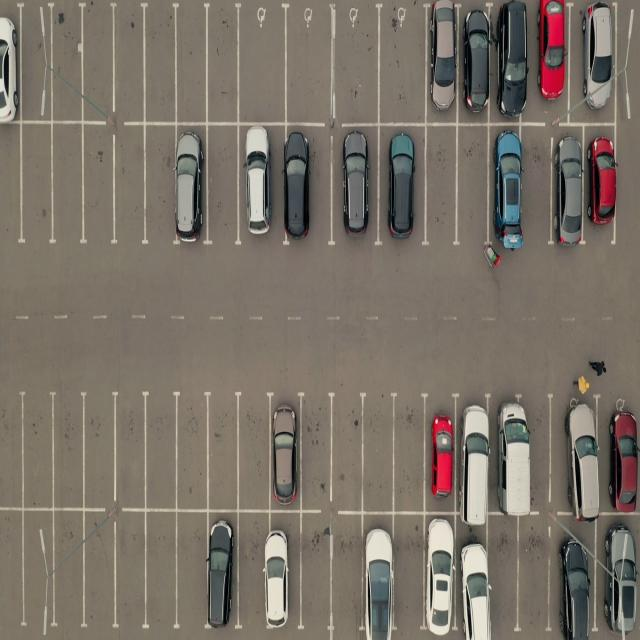space-empty: (286, 7, 337, 124), (375, 5, 425, 124), (238, 5, 288, 123), (332, 6, 380, 124), (45, 512, 87, 630), (15, 126, 53, 248), (517, 514, 556, 632), (46, 2, 84, 122), (204, 5, 242, 124), (175, 4, 212, 124), (78, 392, 116, 508), (142, 4, 179, 123), (176, 394, 214, 509), (205, 125, 242, 243), (78, 129, 115, 247), (79, 512, 116, 630), (111, 4, 148, 122), (17, 512, 54, 629), (50, 395, 87, 511), (17, 395, 54, 511), (142, 512, 178, 631), (50, 128, 86, 247), (78, 2, 114, 121), (112, 124, 148, 243), (328, 395, 366, 507), (392, 398, 429, 513), (143, 393, 180, 508), (457, 126, 492, 247), (331, 514, 366, 635), (237, 394, 274, 508), (115, 396, 152, 510), (205, 394, 241, 510), (115, 512, 150, 631), (141, 123, 176, 242), (358, 396, 394, 510), (423, 123, 457, 243), (235, 512, 269, 632), (296, 395, 332, 508), (296, 513, 330, 632), (394, 514, 427, 636), (486, 516, 519, 636), (15, 4, 49, 120), (177, 512, 210, 631), (523, 125, 554, 245), (0, 510, 24, 631), (0, 387, 24, 507), (0, 127, 22, 248)
space-occupied: (552, 390, 603, 514), (282, 128, 330, 247), (571, 0, 617, 121), (490, 394, 535, 517), (332, 129, 379, 246), (382, 123, 428, 241), (240, 124, 283, 246), (553, 519, 597, 636), (599, 519, 640, 636), (532, 0, 572, 119), (457, 392, 496, 513), (421, 512, 458, 637), (602, 398, 640, 518), (492, 1, 529, 122), (458, 518, 494, 638), (424, 6, 460, 124), (488, 126, 522, 248), (423, 394, 458, 512), (361, 514, 394, 637), (266, 512, 300, 631), (176, 128, 210, 246), (267, 393, 302, 507), (552, 127, 586, 243), (205, 510, 237, 629), (462, 8, 494, 124), (583, 126, 614, 236), (0, 4, 21, 123)
